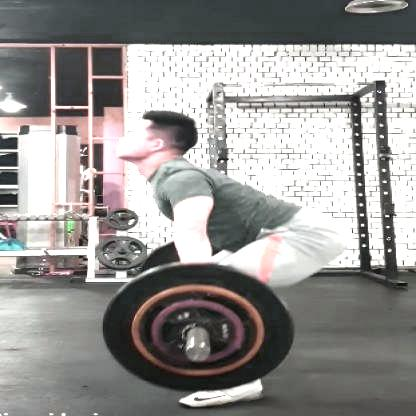Barbell: (183, 341, 215, 365)
